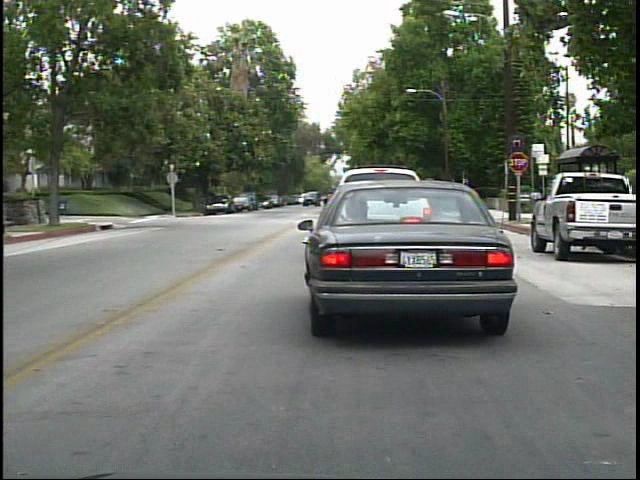person: (250, 190, 260, 213)
